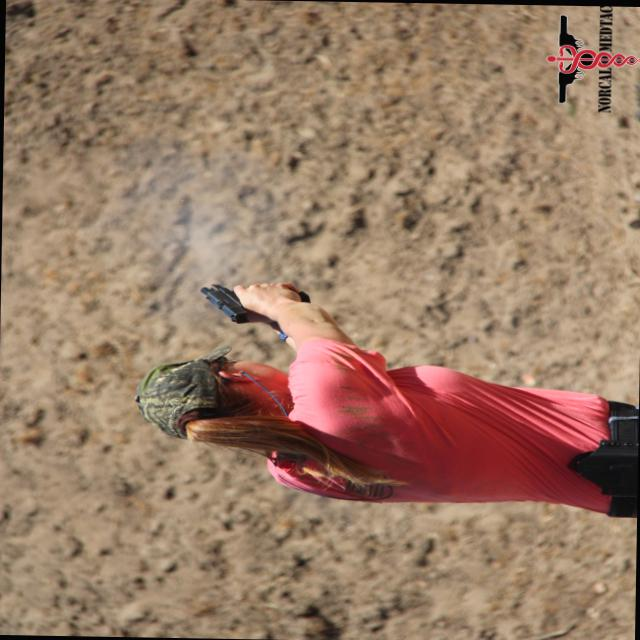handgun: (194, 280, 314, 324)
